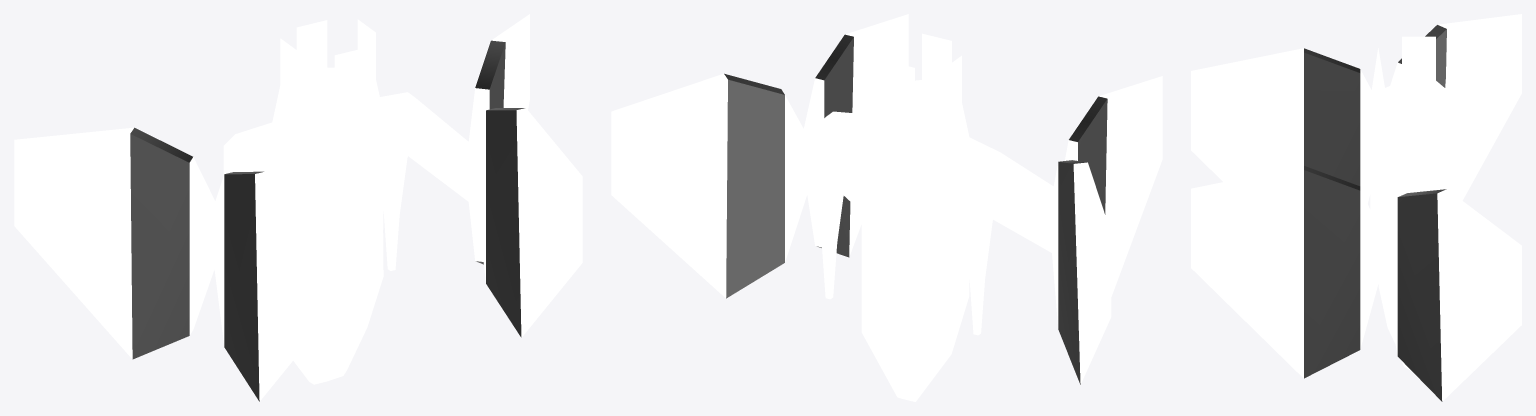
The model's file is ship_06_13007.glb.
3 views of the same model, side by side, from view 1: azimuth 30°, elevation 25°; view 2: azimuth 150°, elevation 25°; view 3: azimuth 270°, elevation 25° (orthographic). The views are drawn at different scales.
Parts seen in each view (by area): view 1: group_19; view 2: group_19; view 3: group_19.
Part boxes in pixels (x1,y1,x2,y2): group_19: [14, 14, 582, 401]; group_19: [611, 14, 1162, 401]; group_19: [1191, 14, 1521, 401].
Size of the model in its own units: 1244 by 814 by 751.
2 materials, 2 textured.
